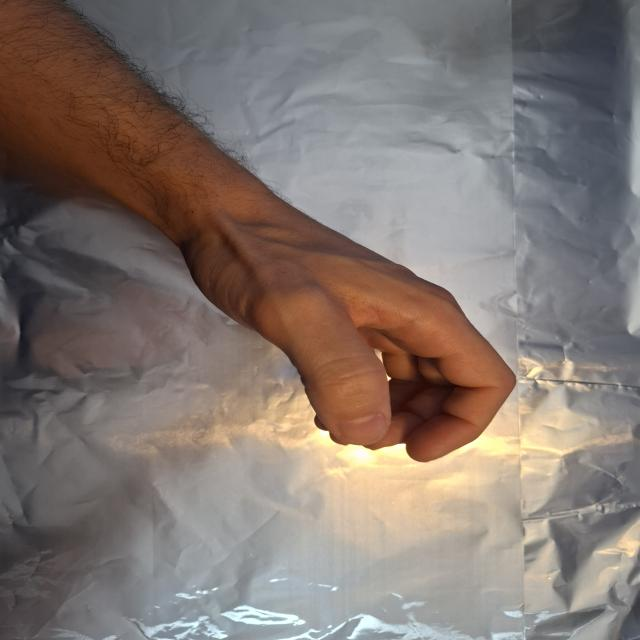glove_off: (176, 186, 520, 465)
